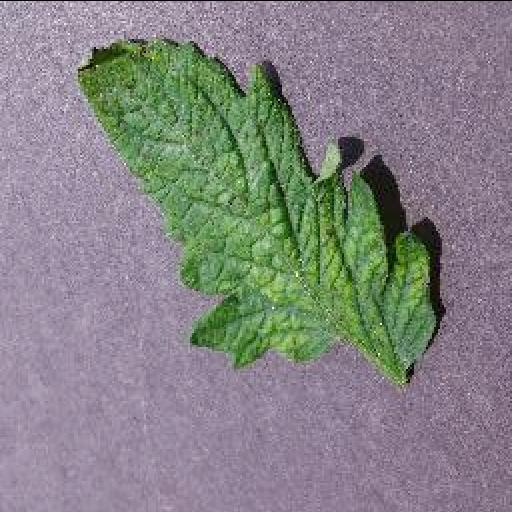disease_tomato: (72, 37, 434, 367)
